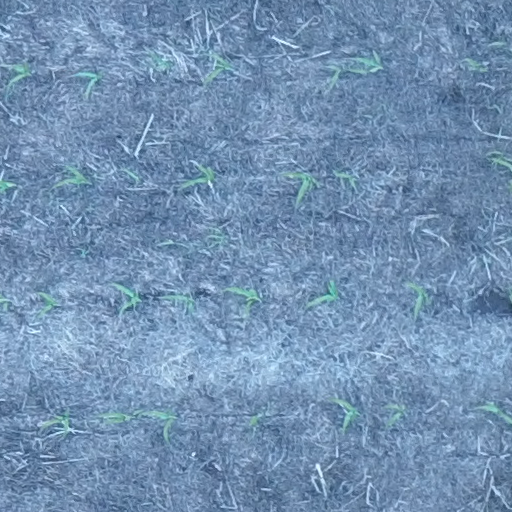planta: (142, 408, 177, 442), (283, 171, 320, 202), (224, 286, 263, 315), (331, 396, 360, 433), (306, 278, 339, 308), (114, 282, 142, 315), (407, 281, 433, 316), (347, 50, 383, 74), (181, 164, 216, 188), (205, 54, 232, 84), (41, 411, 70, 438), (55, 165, 89, 188), (6, 63, 31, 89), (163, 293, 195, 312), (77, 71, 104, 93), (37, 290, 57, 316), (386, 404, 406, 428), (99, 411, 129, 425), (335, 169, 357, 186), (326, 65, 341, 89)
